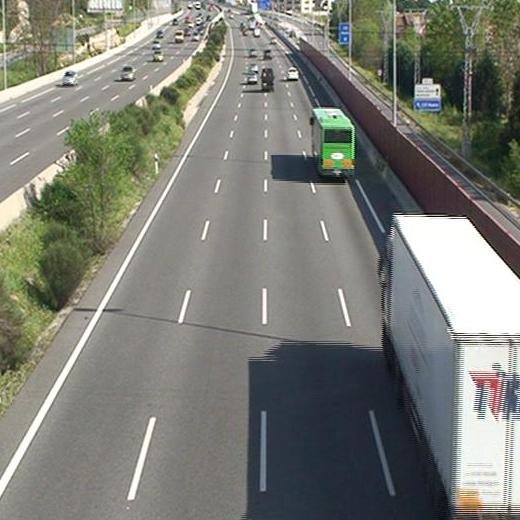bus: (310, 108, 354, 177)
car: (287, 66, 298, 79), (246, 71, 258, 82), (248, 62, 258, 73), (263, 48, 271, 59)
truck: (383, 213, 519, 520)
van: (261, 68, 273, 90)
